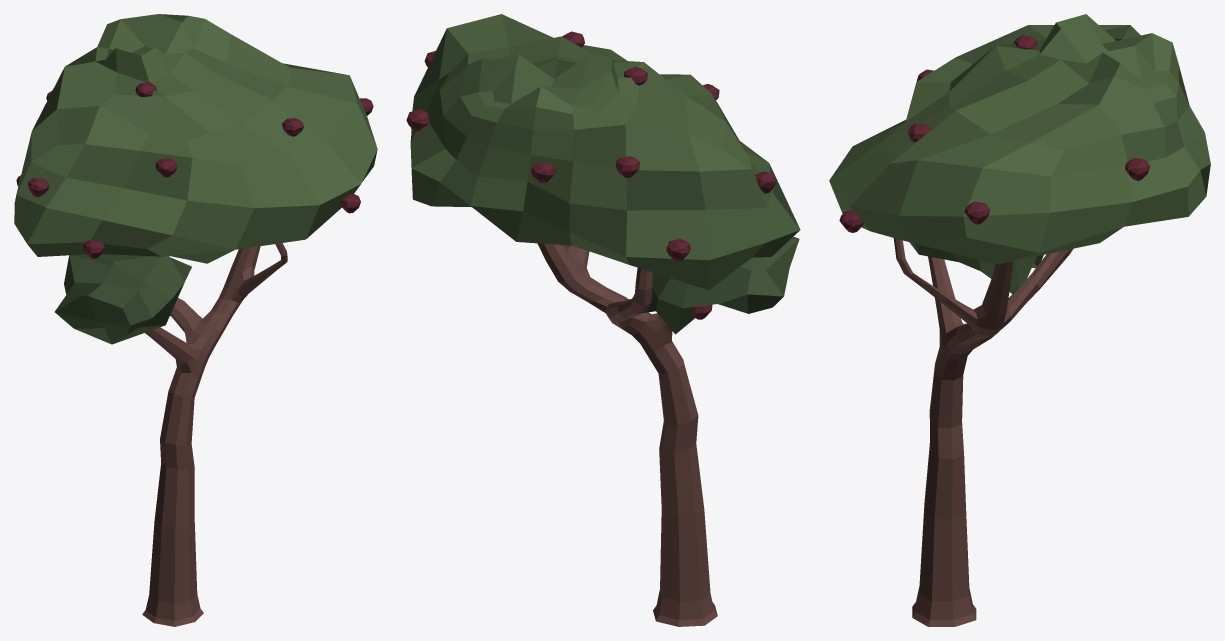
File: Apple_4.glb
3 renders of one model, left to right at view 1: azimuth 30°, elevation 25°; view 2: azimuth 150°, elevation 25°; view 3: azimuth 270°, elevation 25°, orthographic. The views are drawn at different scales.
Parts seen in each view (by area): view 1: Green_Tree, Wood, DarkGreen_Tree, DarkRed; view 2: Green_Tree, Wood, DarkGreen_Tree, DarkRed; view 3: Green_Tree, Wood, DarkRed, DarkGreen_Tree.
Part boxes in pixels (x1,y1,x2,y2): Green_Tree: (14, 14, 377, 263); Wood: (142, 243, 287, 626); DarkGreen_Tree: (55, 254, 191, 344); DarkRed: (16, 82, 373, 258); Green_Tree: (410, 14, 800, 290); Wood: (537, 243, 717, 626); DarkGreen_Tree: (643, 236, 799, 334); DarkRed: (406, 31, 776, 319); Green_Tree: (829, 14, 1210, 264); Wood: (893, 238, 1073, 626); DarkRed: (839, 35, 1150, 232); DarkGreen_Tree: (909, 242, 1043, 293).
Size of the model in its own units: 1.86 by 2.76 by 1.58.
